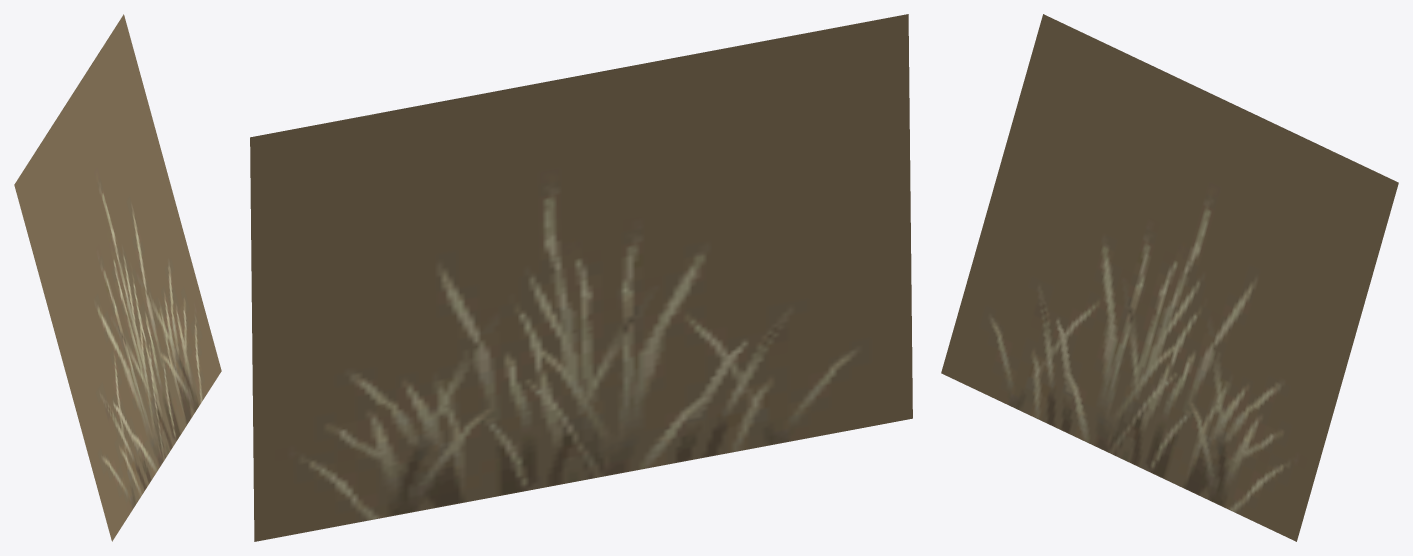
File: reed_beach_c.glb
3 views of the same model, side by side, from view 1: azimuth 30°, elevation 25°; view 2: azimuth 150°, elevation 25°; view 3: azimuth 270°, elevation 25° (orthographic). The views are drawn at different scales.
Visible parts, largest first — view 1: reed_beach_c; view 2: reed_beach_c; view 3: reed_beach_c.
Boxes of the visible parts, x1,y1,x2,y2 form: reed_beach_c: [14, 14, 221, 541]; reed_beach_c: [250, 14, 912, 541]; reed_beach_c: [941, 14, 1398, 541].
Size of the model in its own units: 3.95 by 4.07 by 4.65.
Materials: 1 (1 with a texture image).
